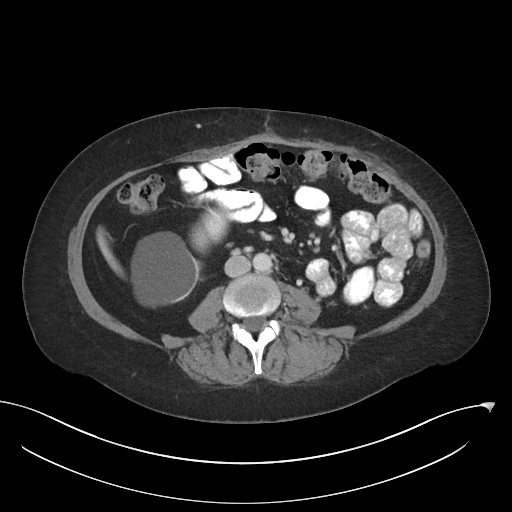Lesion: (132, 226, 199, 308)
